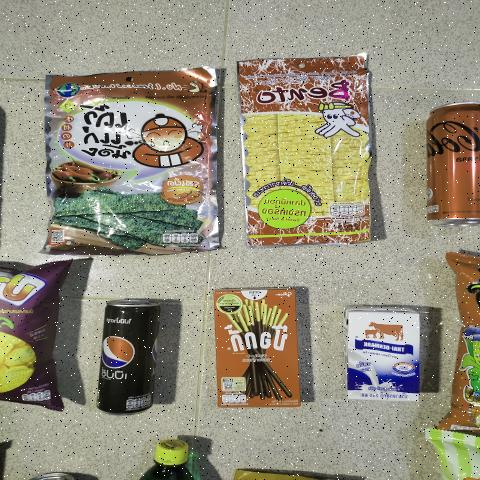bento_red: (243, 59, 374, 241)
coke_red: (426, 100, 480, 230)
pepsi_black: (89, 289, 163, 418)
pokki: (214, 290, 297, 409)
taokaenoi: (48, 72, 217, 242)
thai_denmark: (346, 300, 426, 412)
